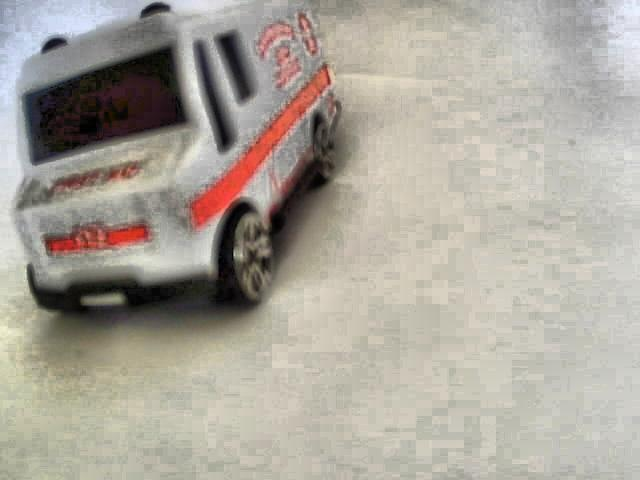ambulance: (11, 0, 341, 313)
